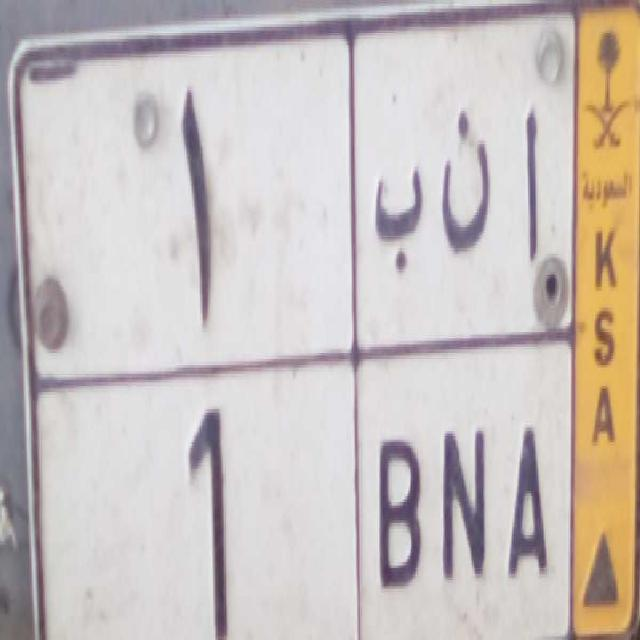license_plate: (32, 356, 570, 640)
